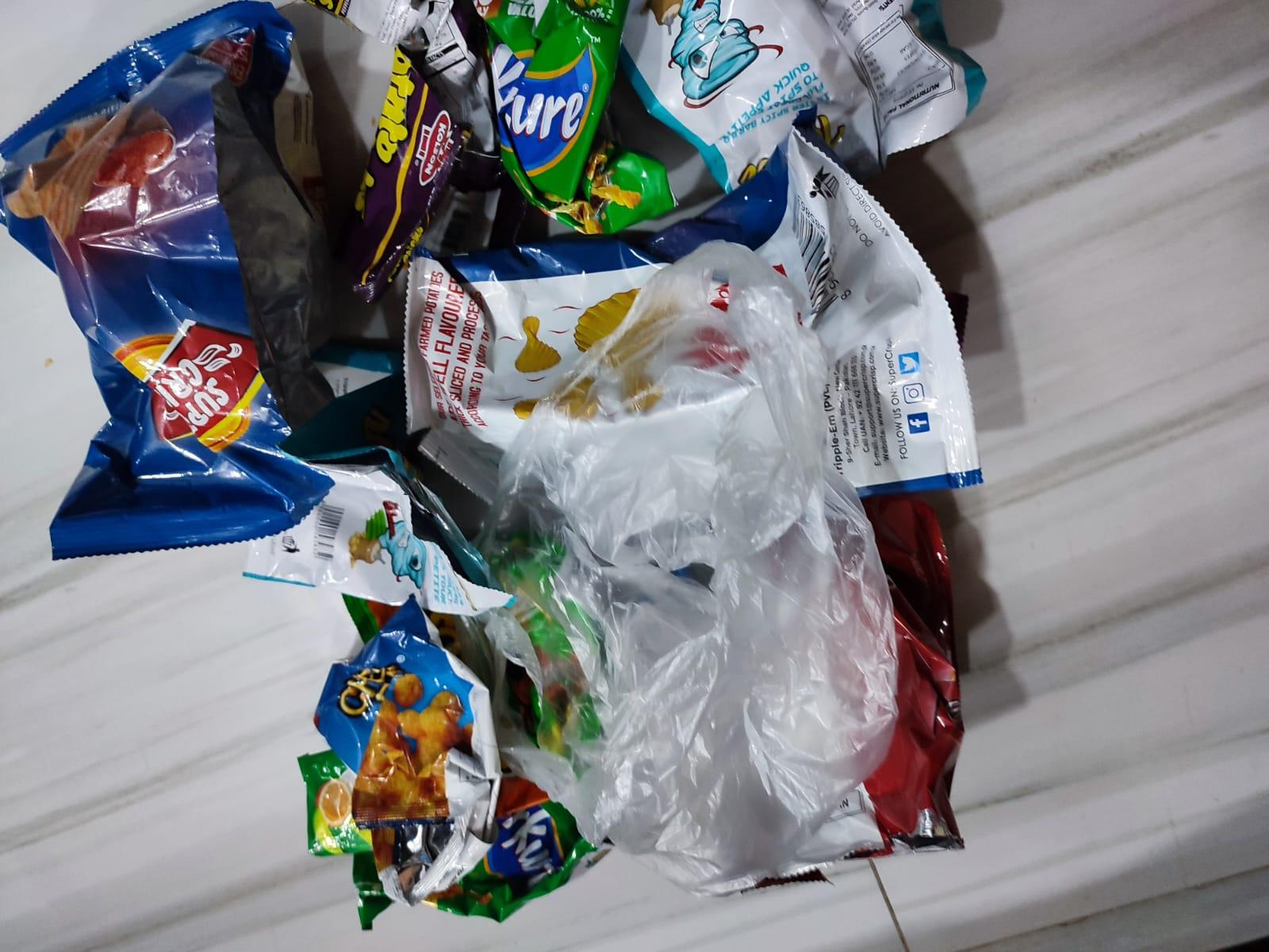garbage: (11, 0, 1050, 937)
